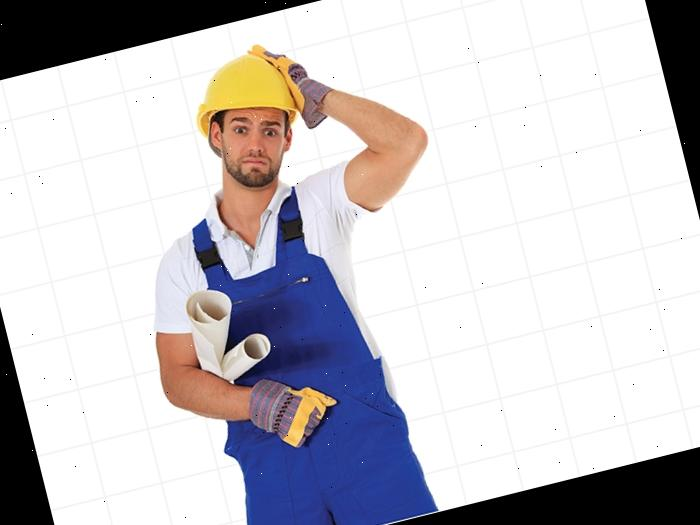helmet: (182, 44, 306, 148)
no_wear: (159, 175, 394, 438)
